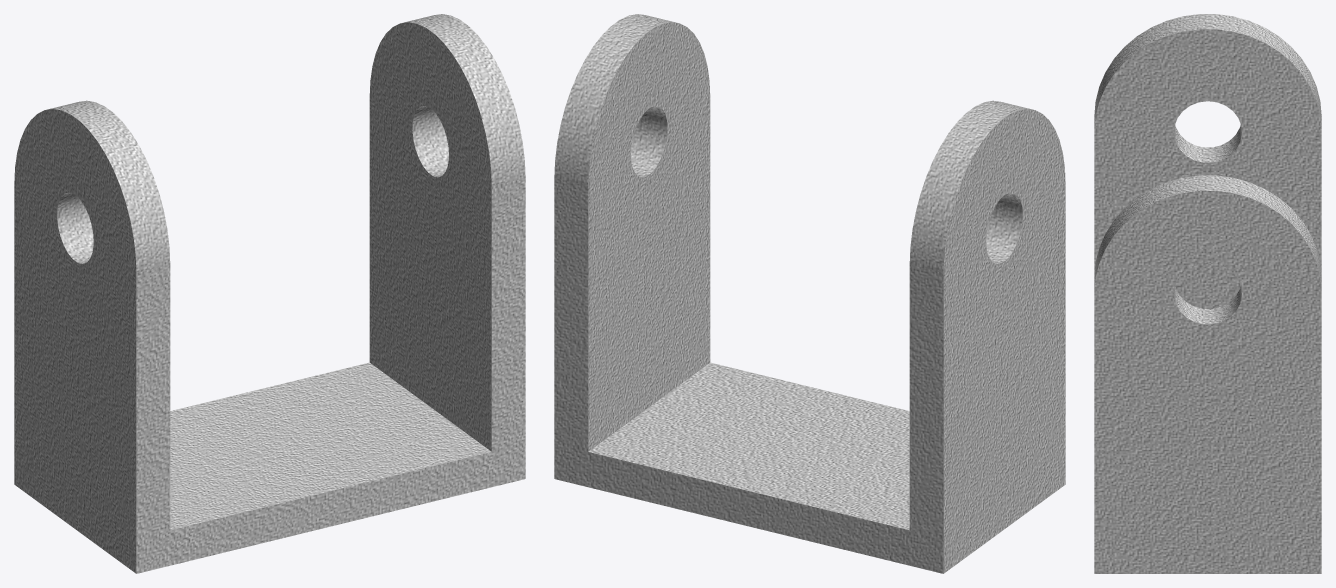
File: Support-Chassis Rigid.gltf
3 renders of one model, left to right at view 1: azimuth 30°, elevation 25°; view 2: azimuth 150°, elevation 25°; view 3: azimuth 270°, elevation 25°, orthographic. The views are drawn at different scales.
Parts seen in each view (by area): view 1: Solid1; view 2: Solid1; view 3: Solid1.
Boxes of the visible parts, left/top/right/bottom form: Solid1: left=14, top=14, right=525, bottom=573; Solid1: left=554, top=14, right=1065, bottom=573; Solid1: left=1094, top=14, right=1321, bottom=573.
Size of the model in its own units: 0.092 by 0.0929 by 0.05.
Materials: 1 (1 with a texture image).
